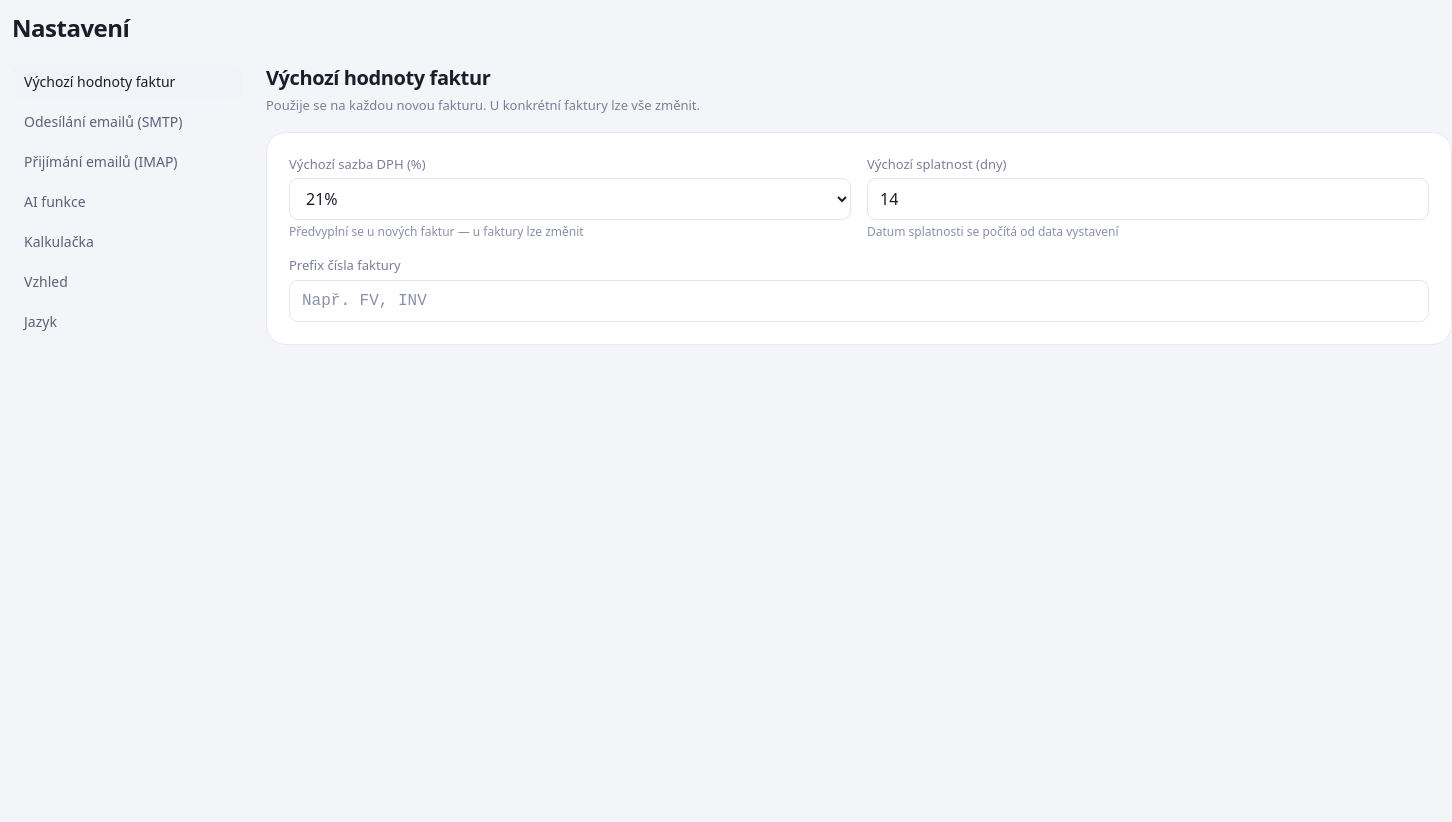
Test: Settings Component › reveals the save bar only once something changes, and discard puts it away
The width and height of the screenshot is (1452, 822).
Check: the button "uložit nastavení" is not shown
Select "12%" in the dropdown named "defaultVatRate" at (570, 199), box 289,178 -> 851,220
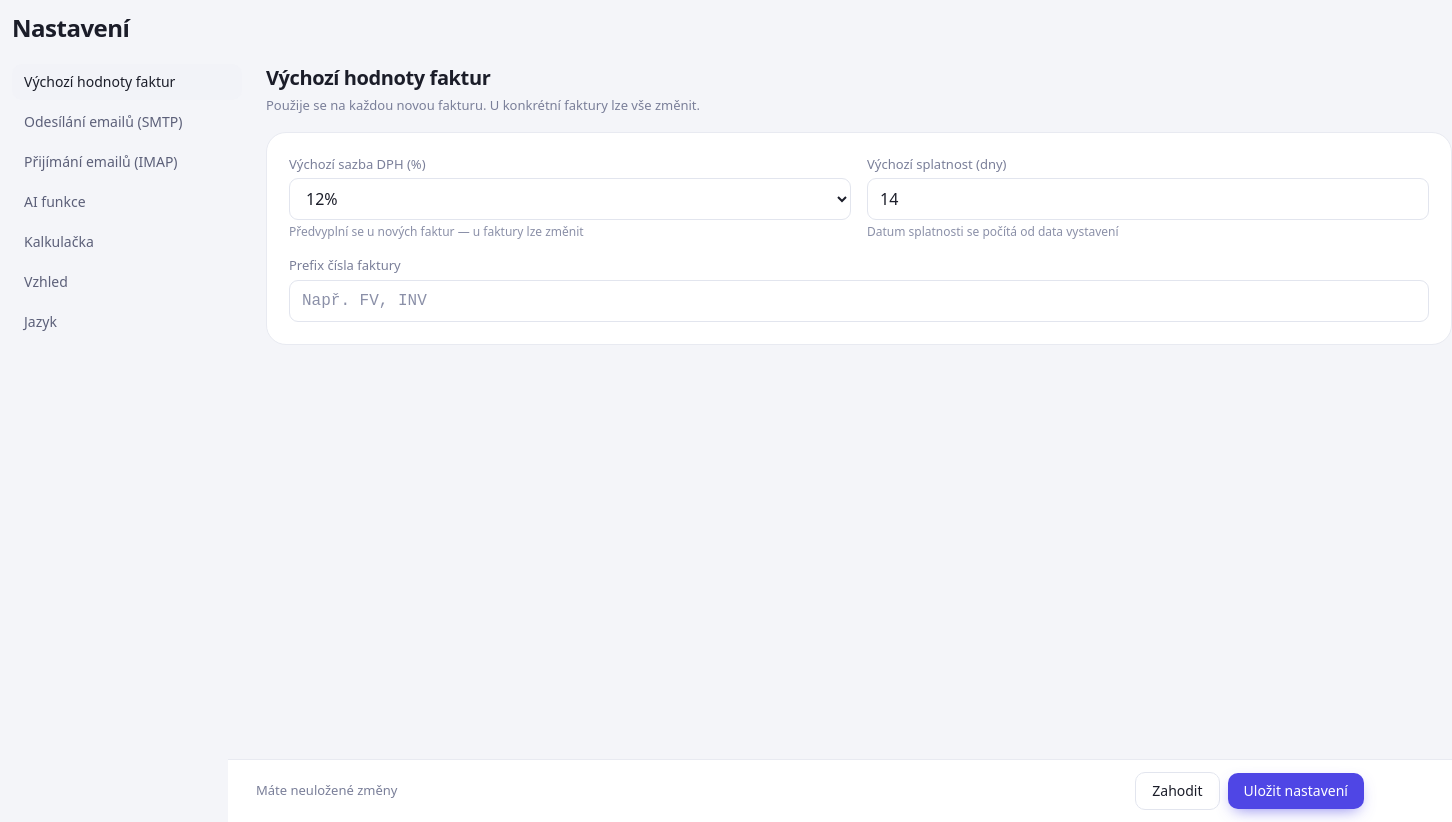
Check: the button "Uložit nastavení" is shown, box 1228,773 -> 1364,809
Click the button "Zahodit" at (1177, 791), box 1135,772 -> 1220,810
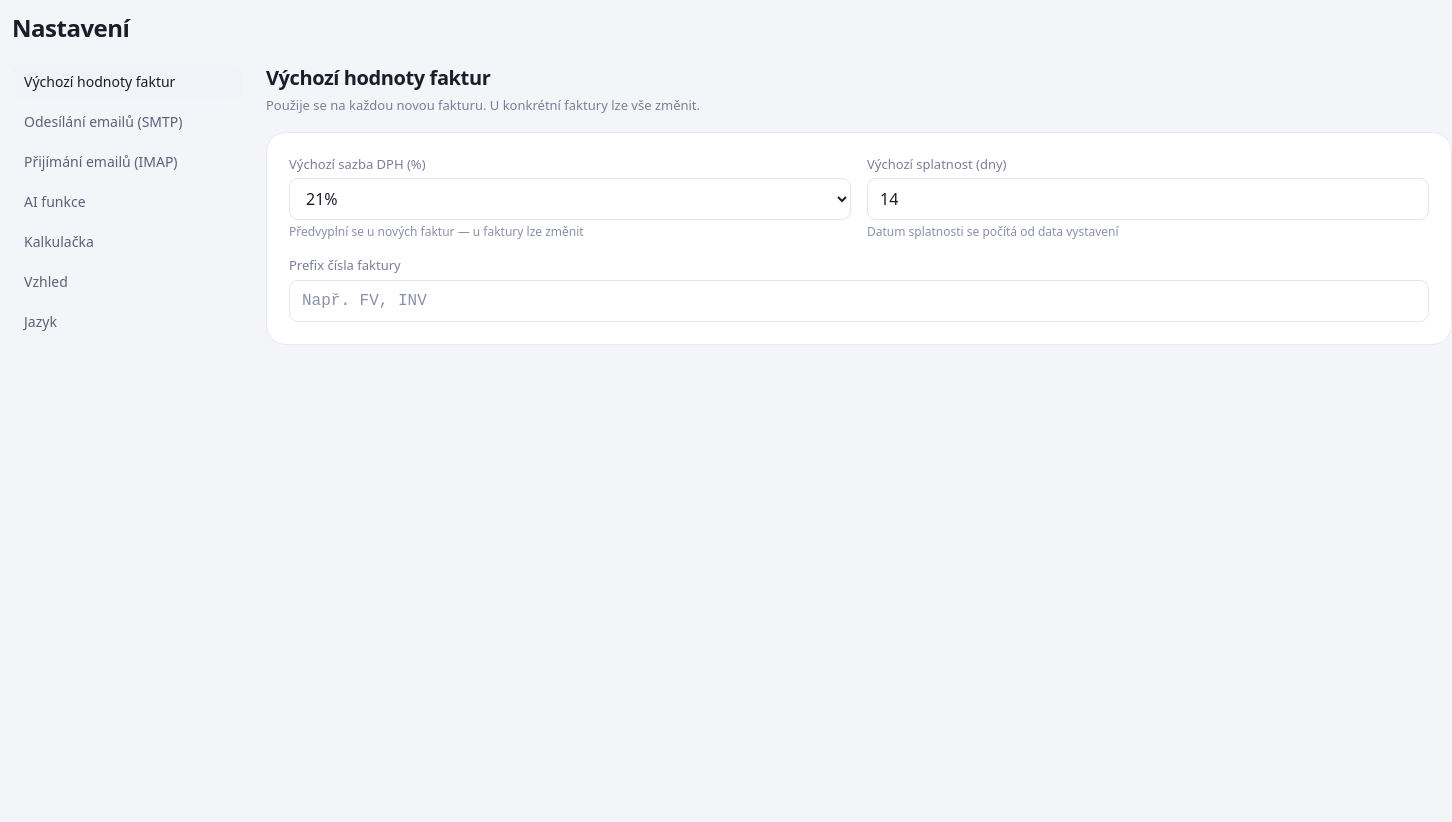
Check: the button "Uložit nastavení" is gone
